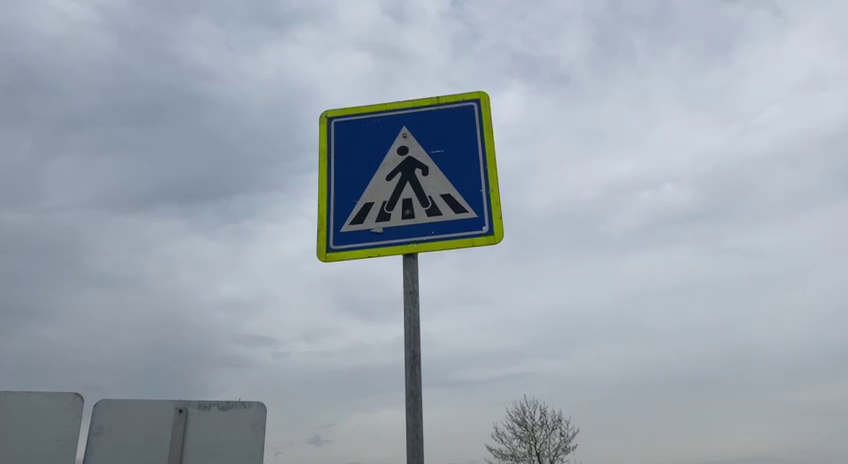pedestrianCrossing: (314, 88, 505, 265)
